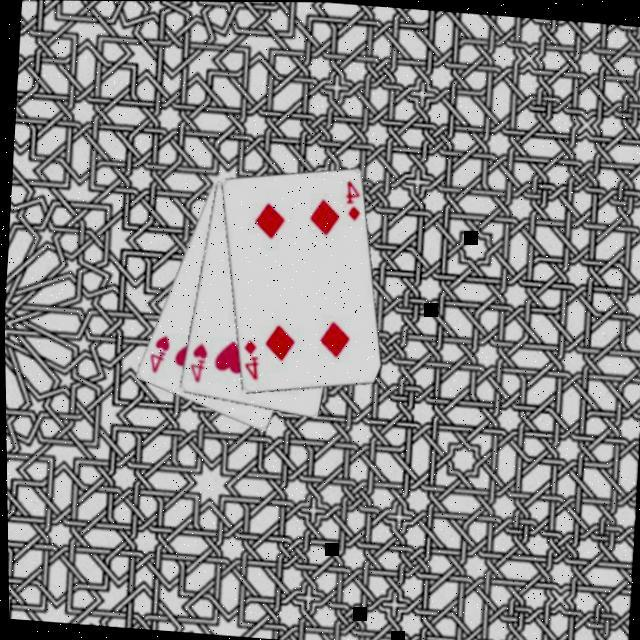4D: (338, 178, 363, 226), (234, 338, 260, 384)
4H: (142, 332, 172, 378), (182, 342, 208, 386)
